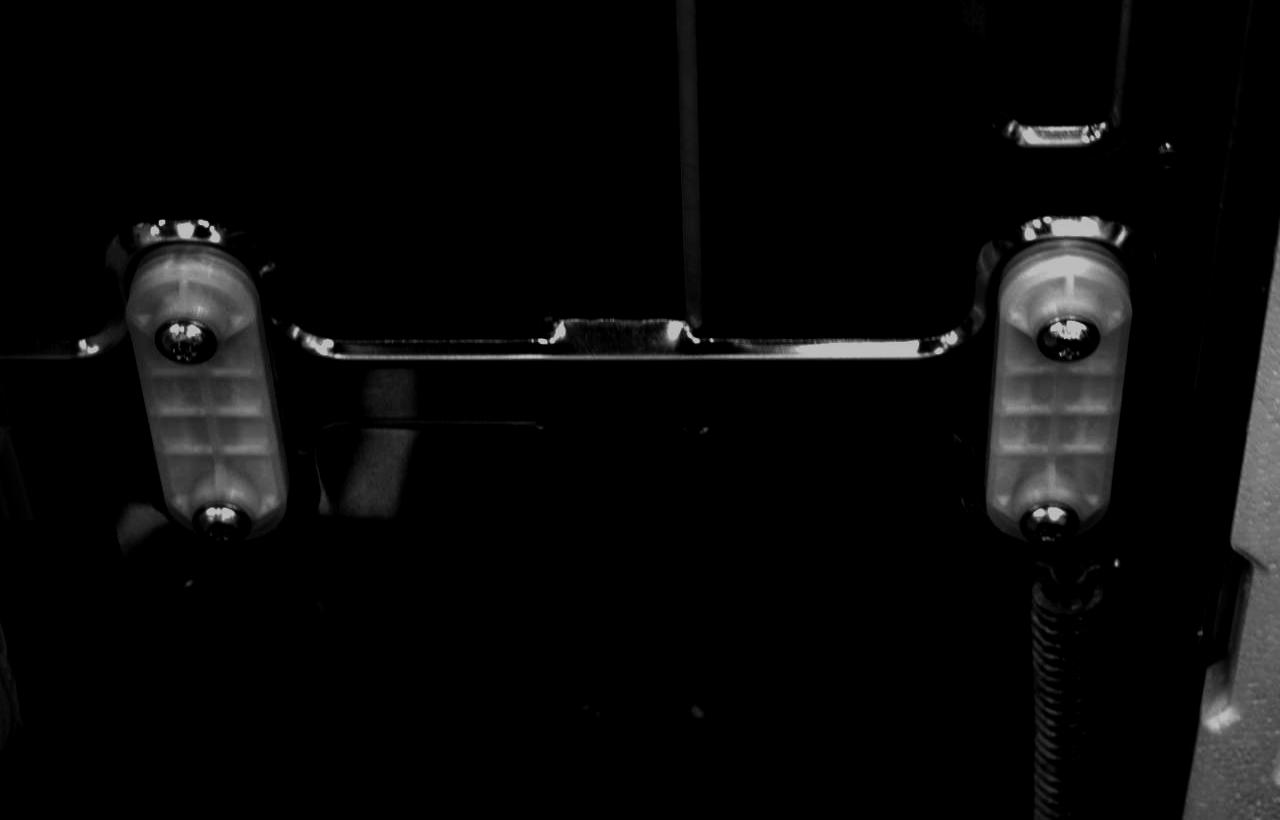vida-ok: (159, 305, 230, 372), (1034, 302, 1101, 369), (190, 492, 256, 551), (1019, 494, 1084, 552)
